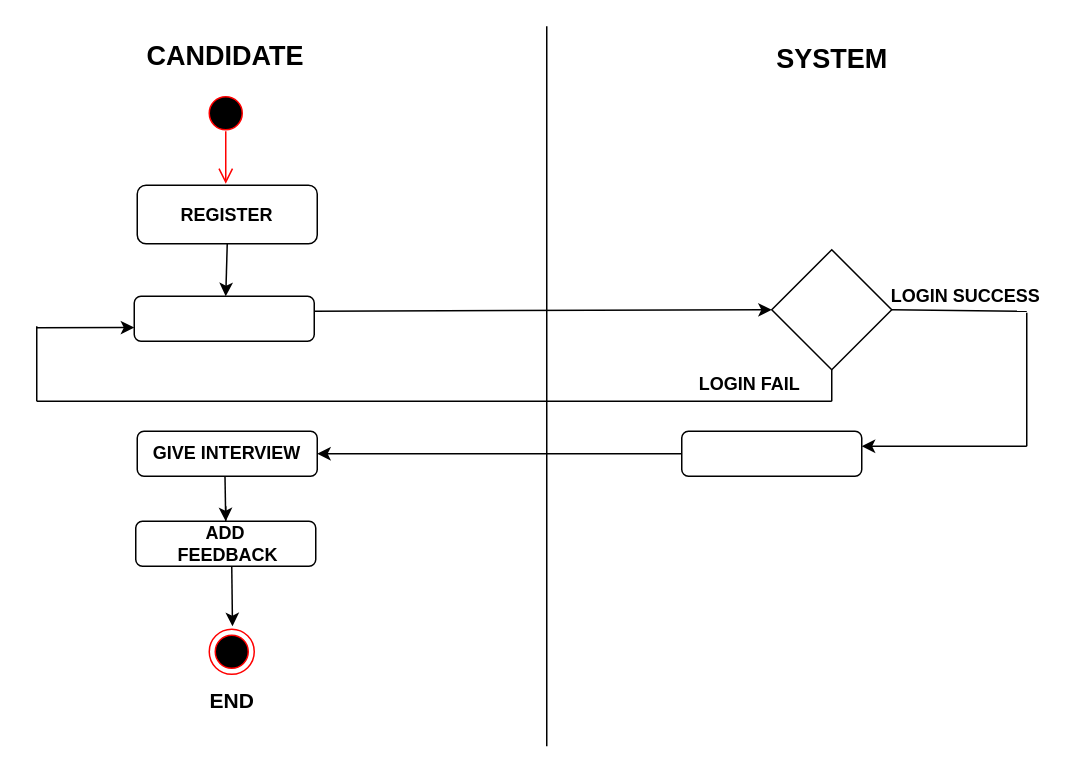
Some shapes in this 1074 by 774 pixel diagram are drawn without their labels. The box of each missing label's shape, as (x1, y1, x2, y2) in pixels:
HOME PAGE: (680, 430, 862, 476)
LOGIN: (133, 295, 314, 341)
